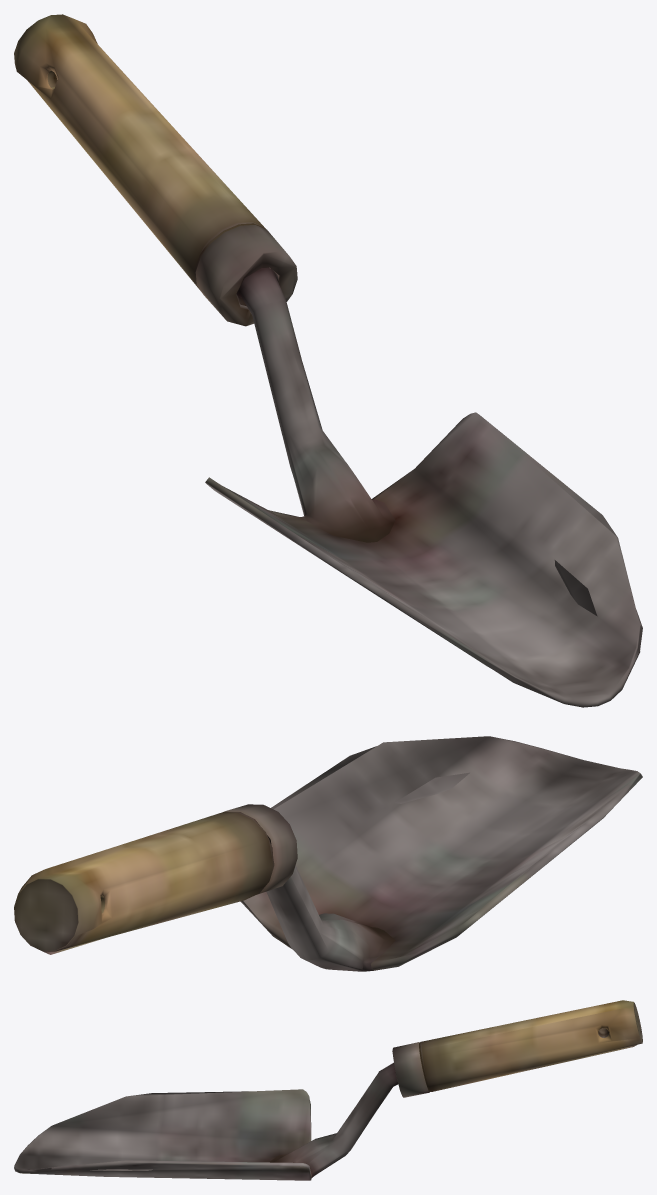
3 views of the same model, one above another, from view 1: azimuth 30°, elevation 25°; view 2: azimuth 150°, elevation 25°; view 3: azimuth 270°, elevation 25° (orthographic). The views are drawn at different scales.
Visible parts, largest first — view 1: trowel_01; view 2: trowel_01; view 3: trowel_01.
Boxes of the visible parts, x1,y1,x2,y2 form: trowel_01: (14,14,642,707); trowel_01: (14,736,642,971); trowel_01: (14,1000,642,1180).
Size of the model in its own units: 0.0989 by 0.1018 by 0.3468.
Materials: 1 (1 with a texture image).
